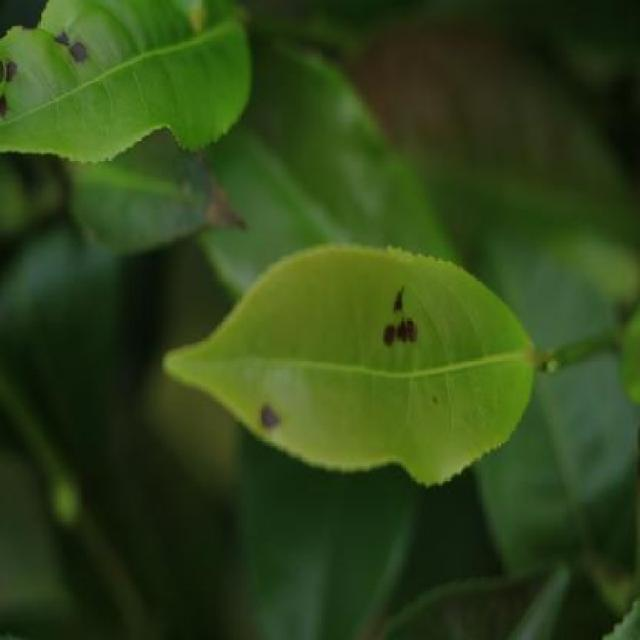Tea Mosquito bug infested leaf: (162, 237, 562, 481), (0, 0, 171, 158)
